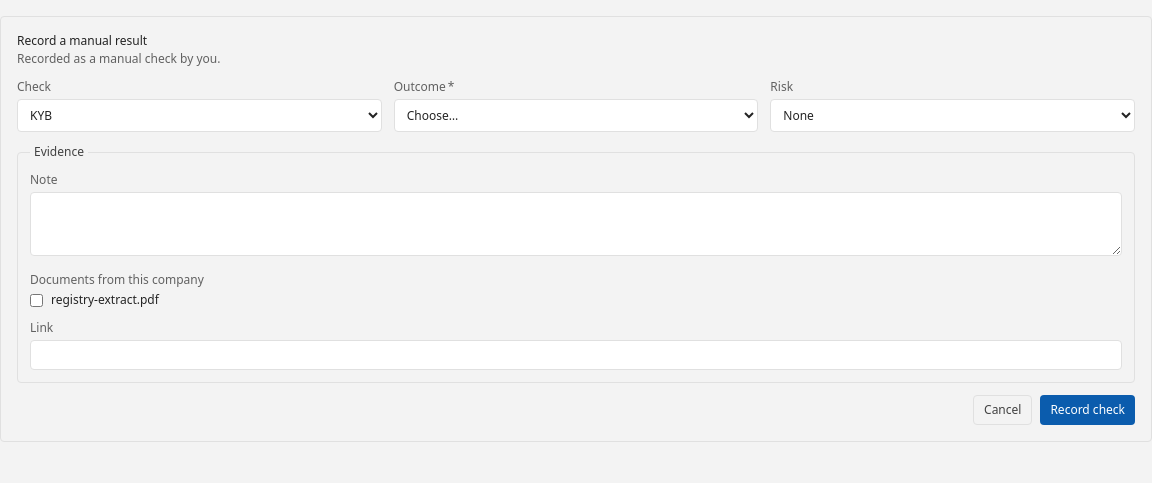
Test case: ManualResultForm — the evidence rule › shows the server’s 422 as the server words it, and stays open
Click the checkbox labelled "registry-extract.pdf" at (36, 300), box [30,294,43,306]
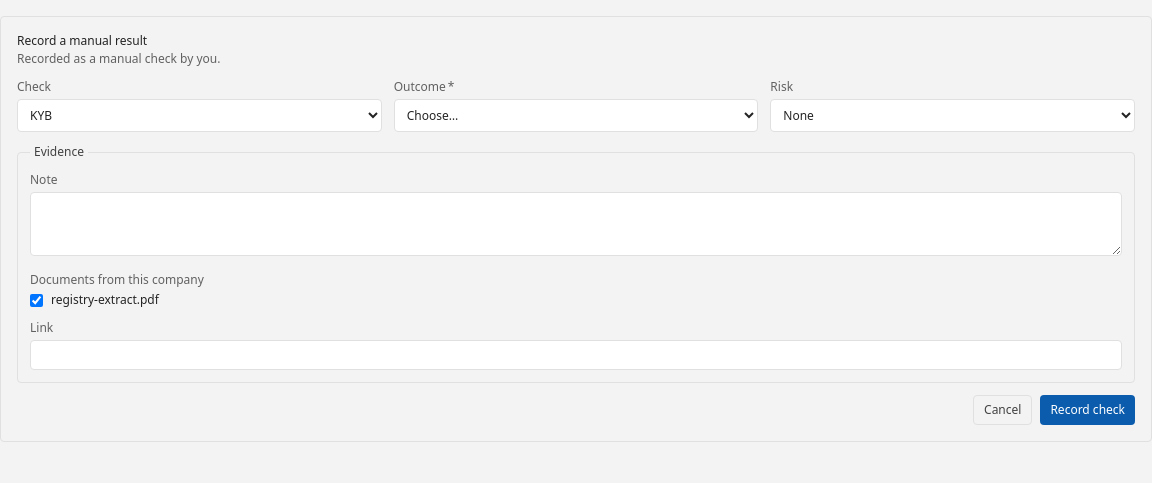
Select "Passed" in the dropdown labelled "Outcome" at (576, 116), box [394,99,758,132]
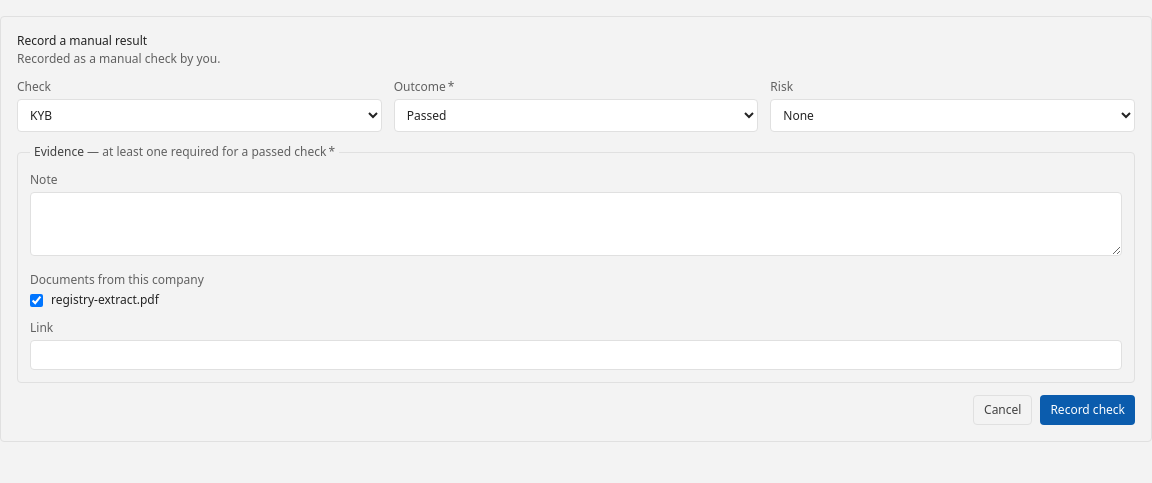
Click the button "Record check" at (1088, 410), box [1040,395,1135,425]
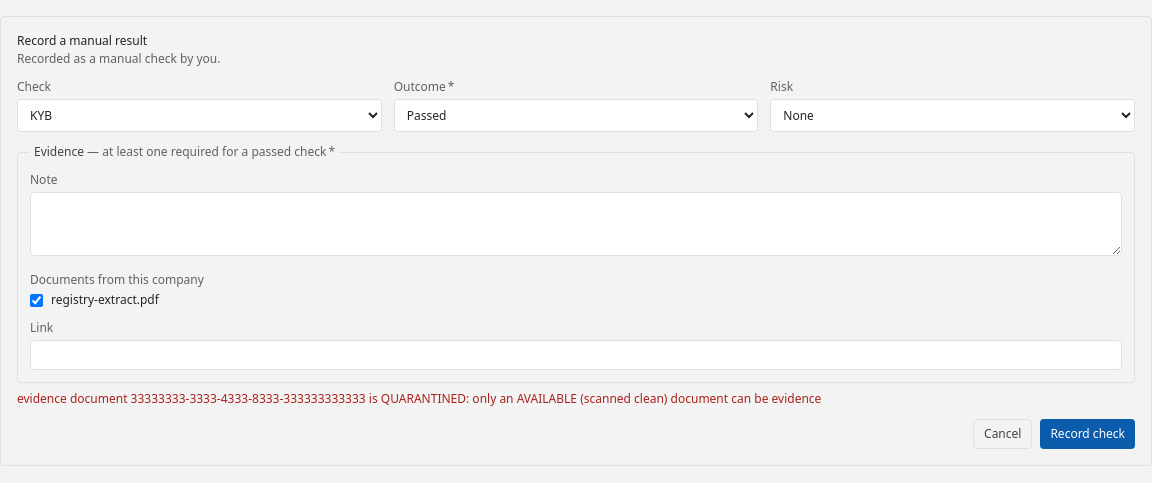
Now the message shows "is QUARANTINED", box [17,390,821,407]
